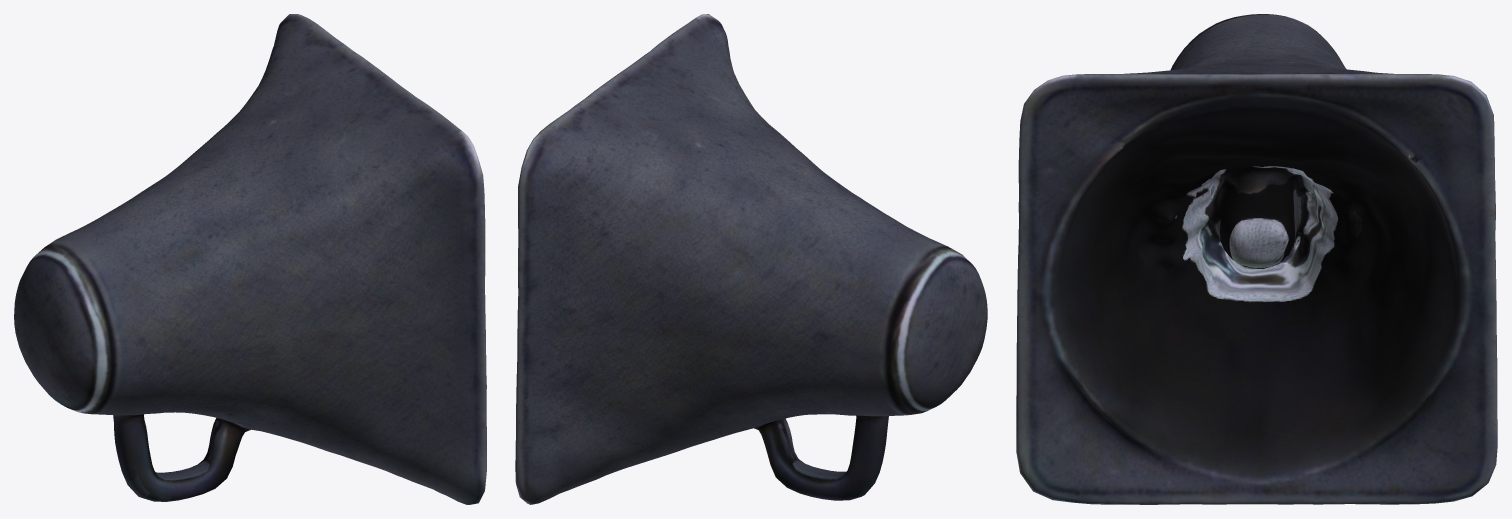
Rendered from 45b445b297b7_square_megaphone_gr.fbx.
3 renders of one model, left to right at view 1: azimuth 30°, elevation 25°; view 2: azimuth 150°, elevation 25°; view 3: azimuth 270°, elevation 25°, orthographic. The views are drawn at different scales.
Parts seen in each view (by area): view 1: mesh; view 2: mesh; view 3: mesh.
Boxes of the visible parts, <box> form: mesh: <box>14,14,486,504</box>; mesh: <box>515,14,987,504</box>; mesh: <box>1016,14,1497,504</box>.
Size of the model in its own units: 97.27 by 99.64 by 99.81.
